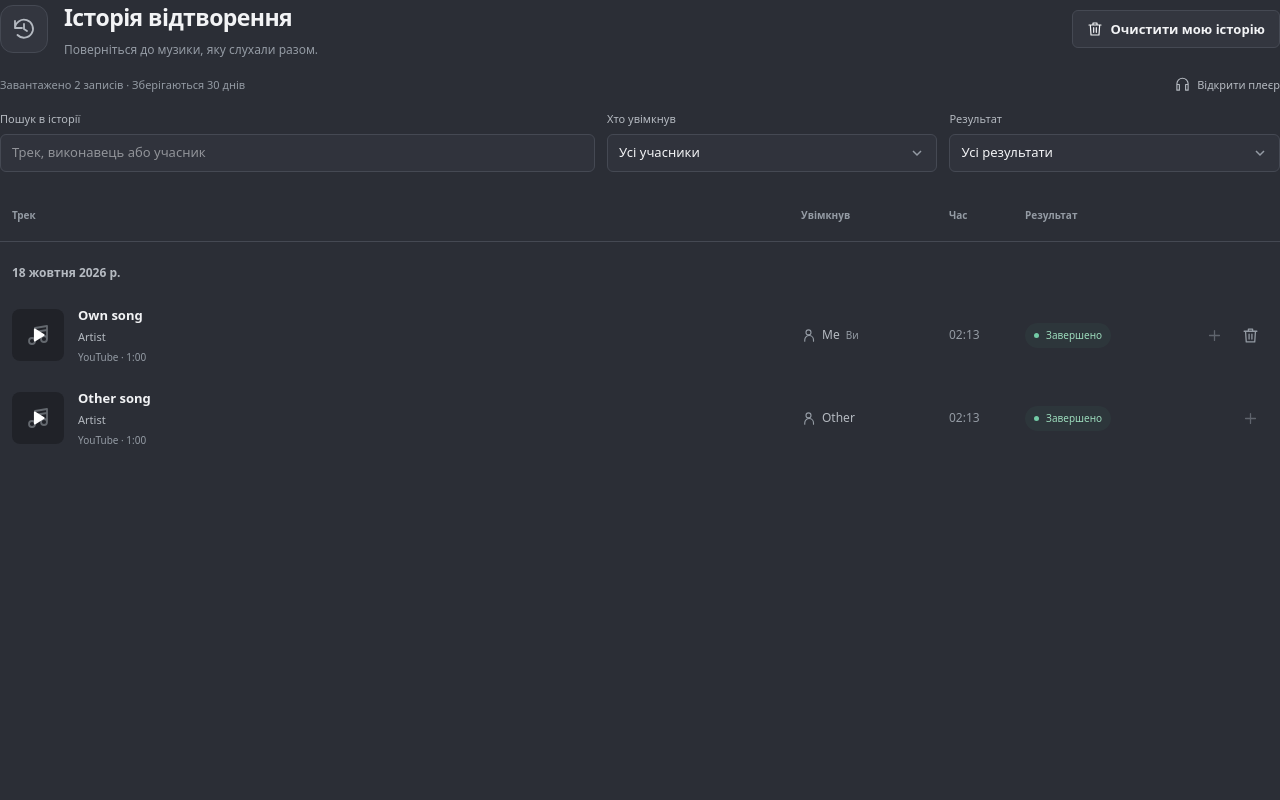
Scenario: Media history interactions › shows deletion only for own entries and requires confirmation; cancelling leaves all history intact
The width and height of the screenshot is (1280, 800).
Click the button named "Видалити запис: Own song" at coordinates (1250, 335), box [1232,317,1268,353]
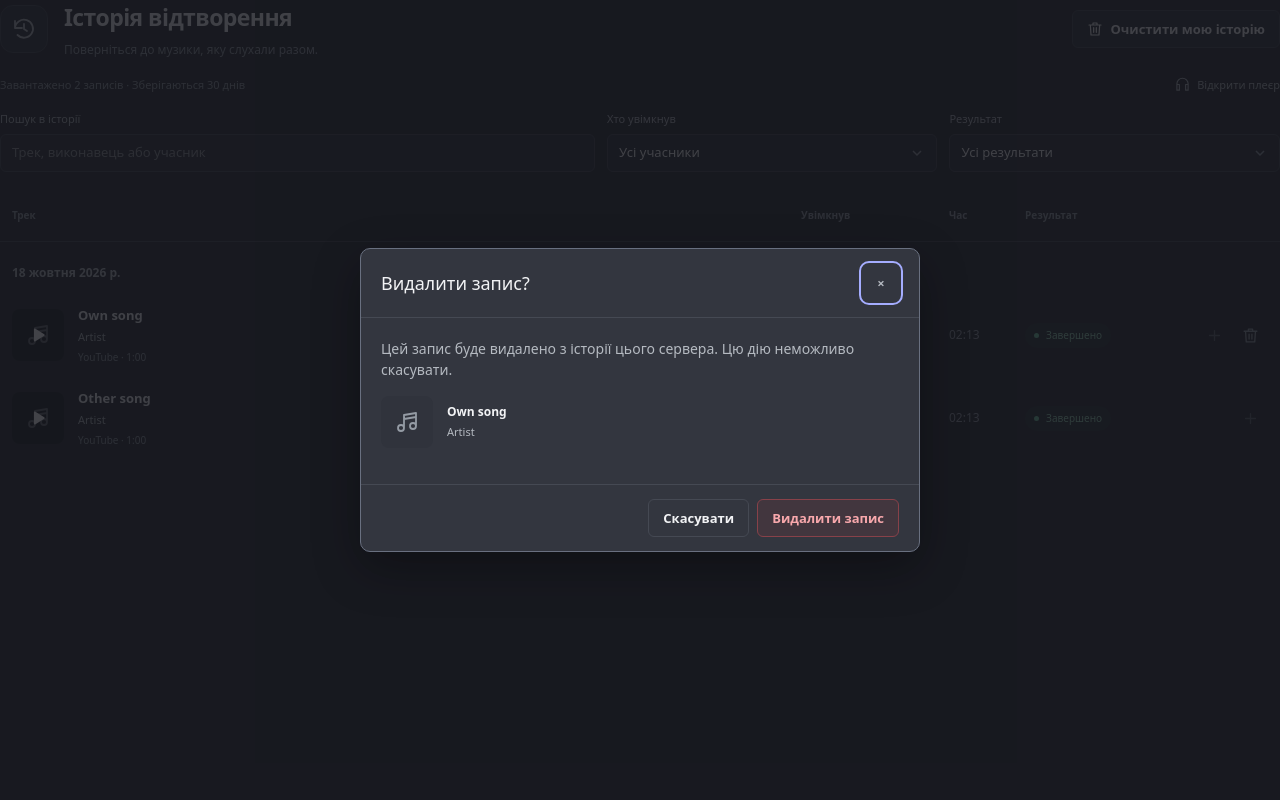
Click the button "Скасувати" at coordinates (699, 518), box [648,499,749,537]
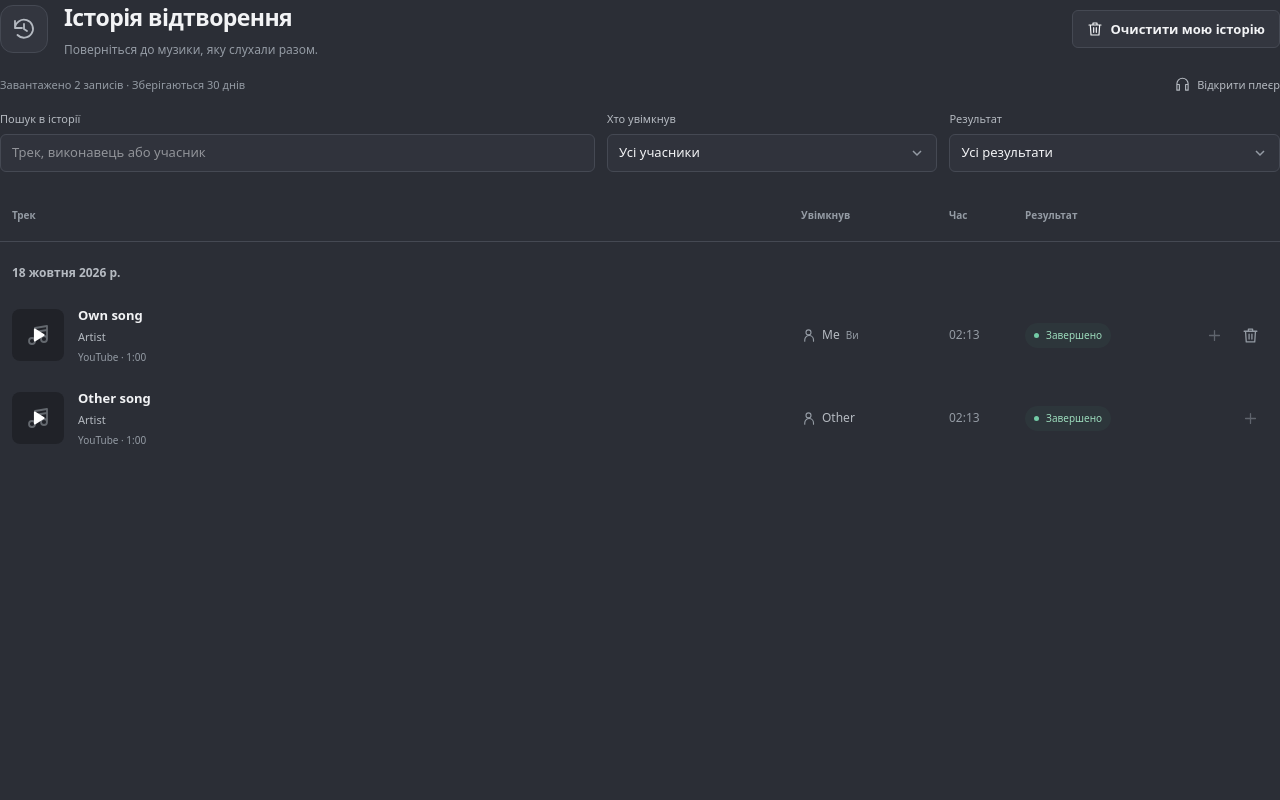
Check: the text "Own song" is shown, box [78,306,143,324]
Click the button named "Видалити запис: Own song" at coordinates (1250, 335), box [1232,317,1268,353]
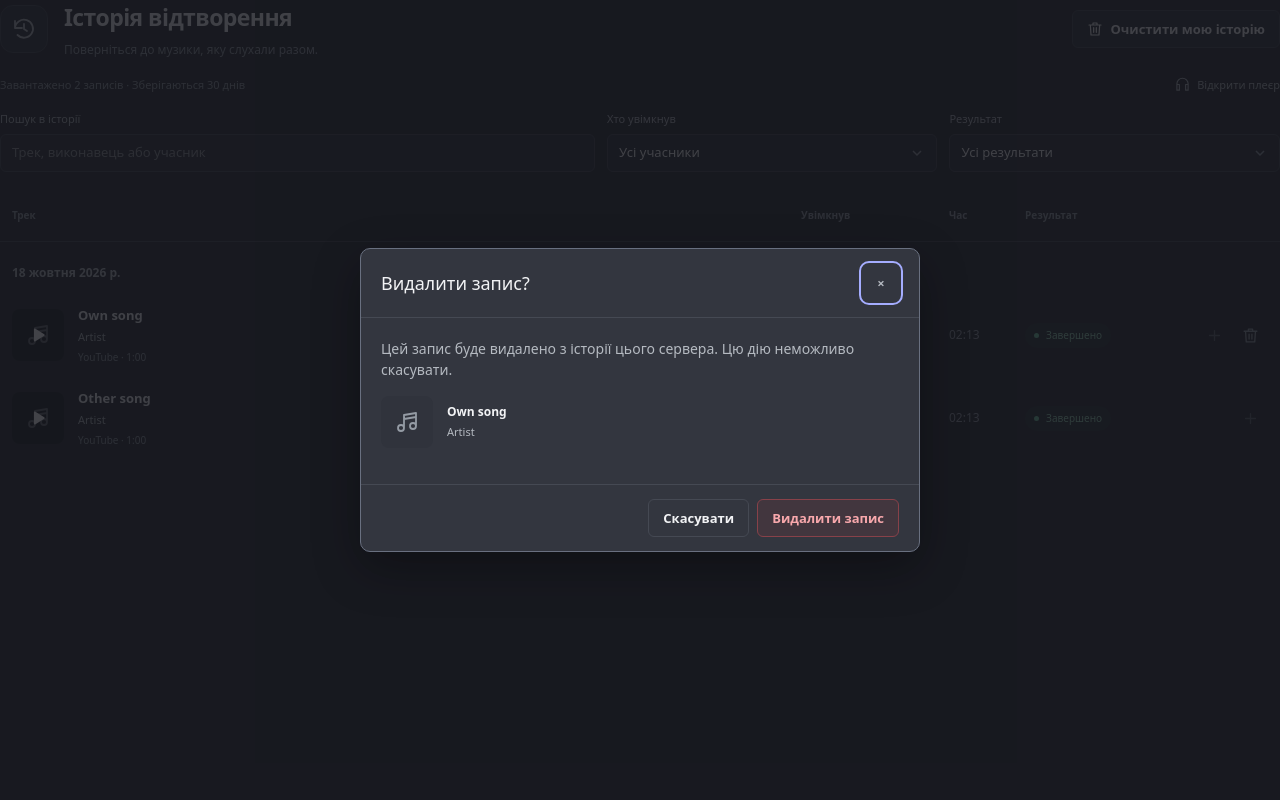
Click the button "Видалити запис" at coordinates (828, 518), box [757,499,899,537]
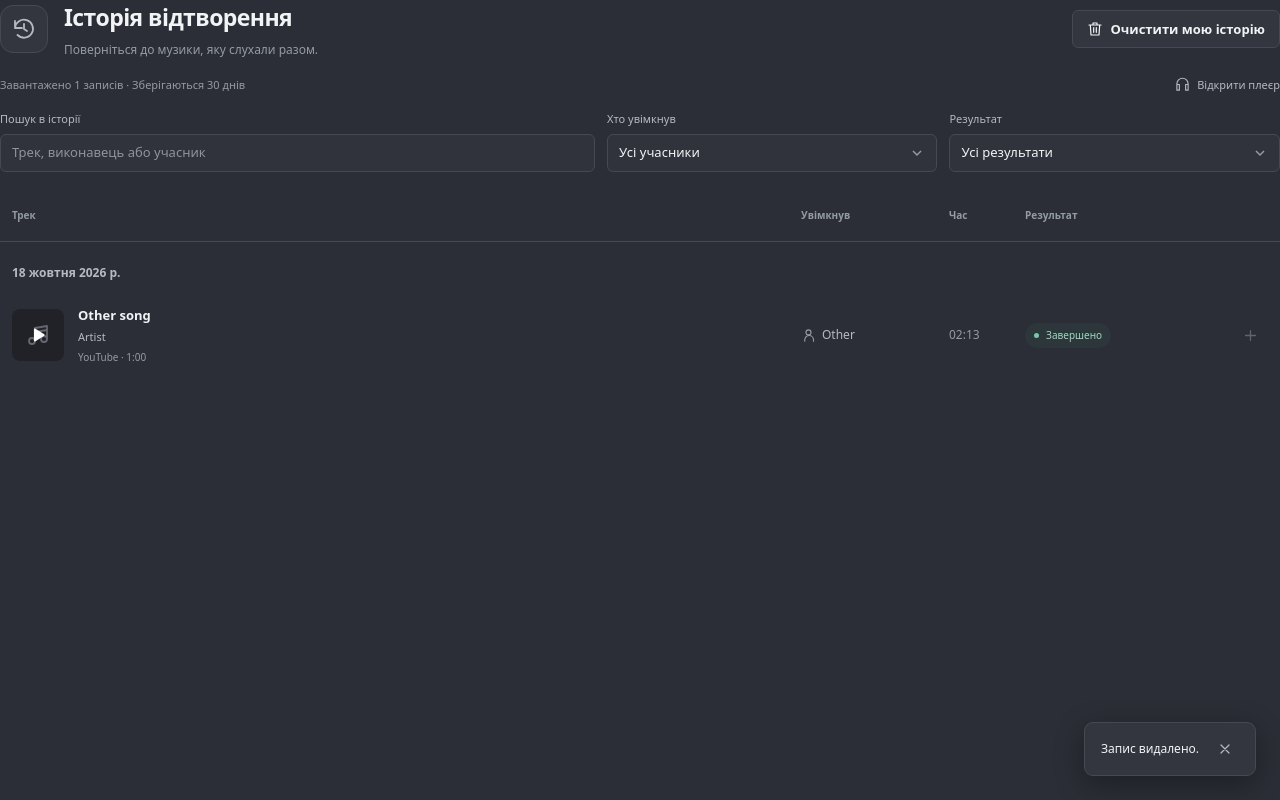
Check: the text "Other song" is shown, box [78,306,151,324]
Check: the text "Own song" is gone
